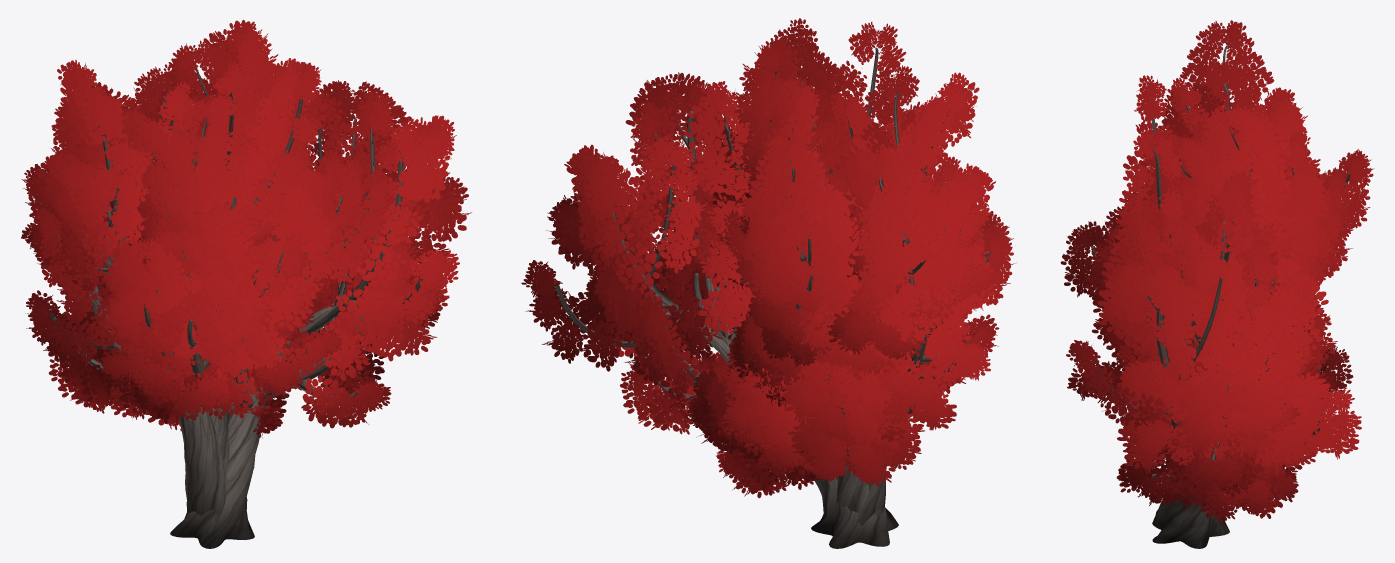
The model's file is trees-twisted.glb.
3 views of the same model, side by side, from view 1: azimuth 30°, elevation 25°; view 2: azimuth 150°, elevation 25°; view 3: azimuth 270°, elevation 25° (orthographic). The views are drawn at different scales.
Parts seen in each view (by area): view 1: TwistedTree_2, TwistedTree_1, TwistedTree_3, TwistedTree_4, TwistedTree_5; view 2: TwistedTree_1, TwistedTree_2, TwistedTree_4, TwistedTree_3, TwistedTree_5; view 3: TwistedTree_1, TwistedTree_4, TwistedTree_2, TwistedTree_3, TwistedTree_5.
Boxes of the visible parts, x1,y1,x2,y2 form: TwistedTree_2: (21, 60, 321, 532); TwistedTree_1: (145, 60, 471, 548); TwistedTree_3: (48, 92, 396, 533); TwistedTree_4: (65, 20, 368, 460); TwistedTree_5: (92, 99, 347, 532); TwistedTree_1: (521, 72, 898, 548); TwistedTree_2: (723, 18, 1015, 521); TwistedTree_4: (712, 37, 939, 489); TwistedTree_3: (685, 99, 1013, 521); TwistedTree_5: (711, 119, 926, 525); TwistedTree_1: (1066, 171, 1361, 548); TwistedTree_4: (1082, 84, 1374, 380); TwistedTree_2: (1102, 20, 1320, 535); TwistedTree_3: (1060, 163, 1353, 513); TwistedTree_5: (1113, 166, 1352, 379).
Bounding box in the file's own units: 17.96 × 18.95 × 12.13.
2 materials, 2 textured.
